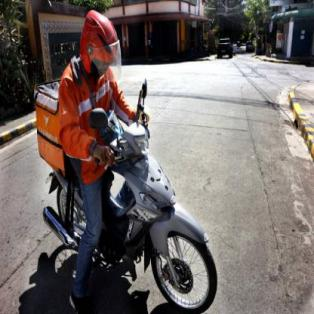Motocicleta: (33, 107, 226, 313)
